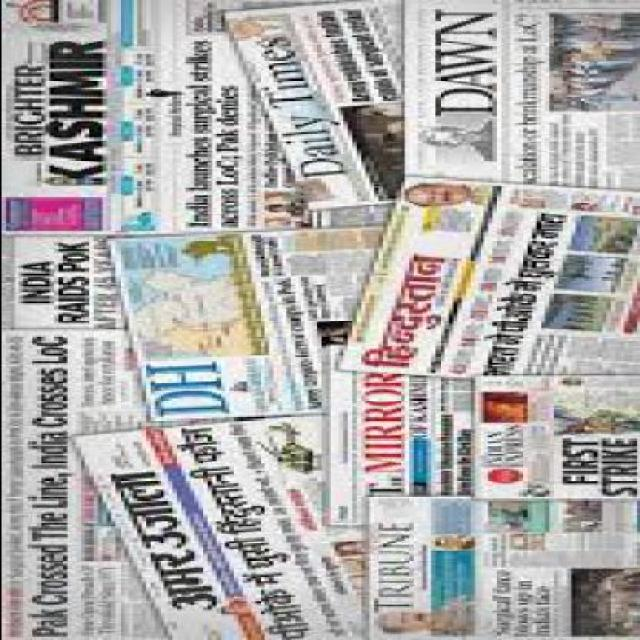PAPER: (2, 1, 636, 638), (1, 2, 382, 235), (2, 331, 263, 638), (74, 414, 363, 638), (334, 178, 635, 376), (320, 346, 635, 531), (101, 228, 381, 422), (396, 2, 636, 193), (215, 3, 403, 212), (358, 498, 637, 638), (2, 235, 109, 332)
